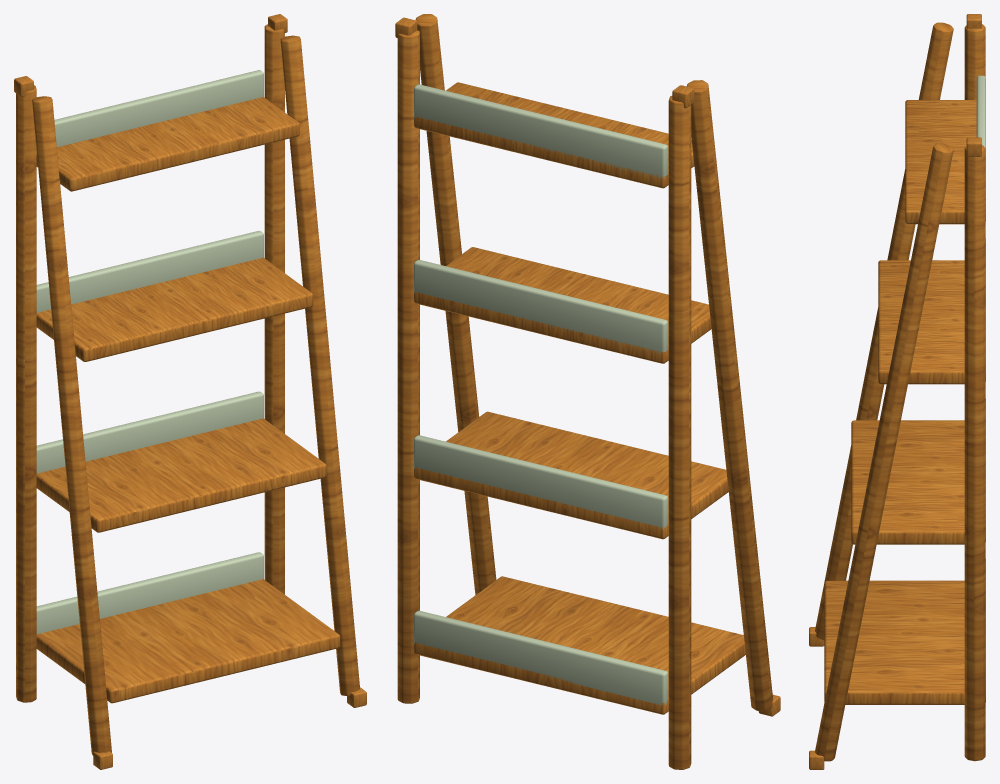
File: ladder-display-shelf.glb
3 views of the same model, side by side, from view 1: azimuth 30°, elevation 25°; view 2: azimuth 150°, elevation 25°; view 3: azimuth 270°, elevation 25° (orthographic). The views are drawn at different scales.
Parts seen in each view (by area): view 1: ladder-display-shelf; view 2: ladder-display-shelf; view 3: ladder-display-shelf.
Part boxes in pixels (bbox=[...]): ladder-display-shelf: bbox=[14, 14, 366, 769]; ladder-display-shelf: bbox=[395, 14, 780, 769]; ladder-display-shelf: bbox=[809, 14, 985, 769].
Bounding box in the file's own units: 0.8 × 1.8 × 0.46.
2 materials, 1 textured.
